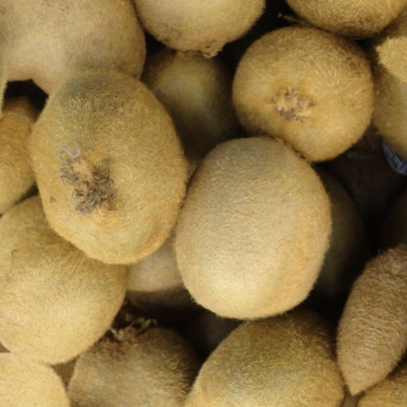kiwi: (134, 96, 378, 348), (0, 39, 230, 294), (209, 6, 398, 192), (0, 182, 152, 383)
